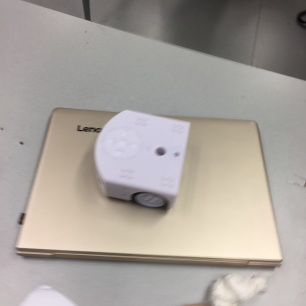thymio: (90, 105, 194, 213)
